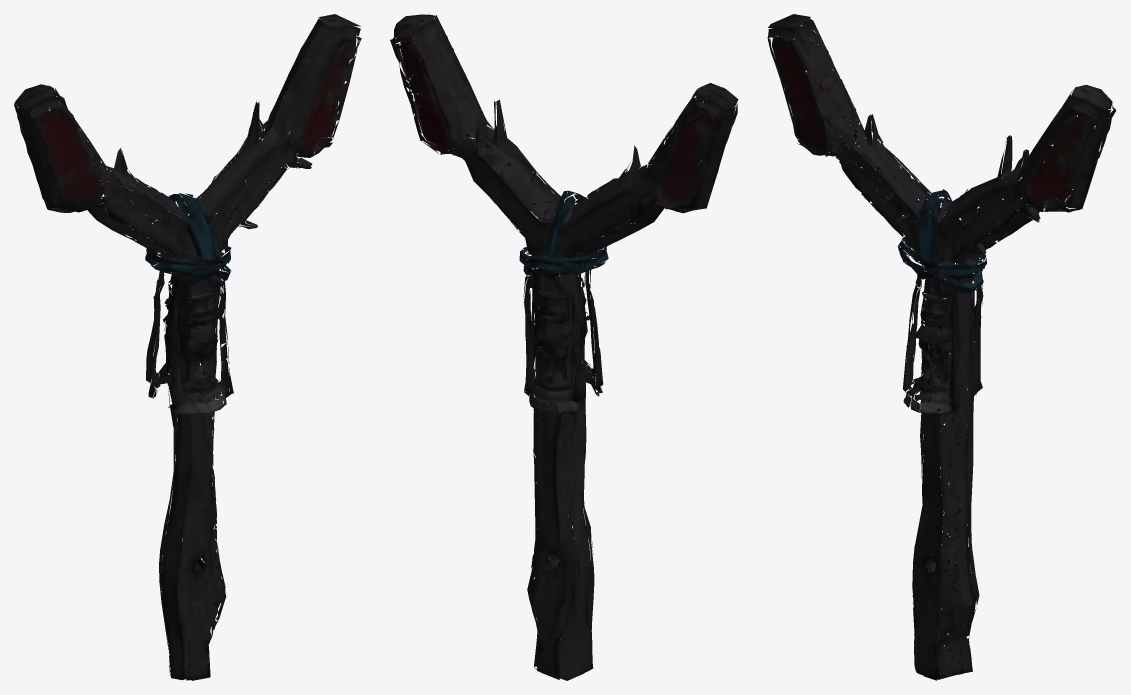
Rendered from prop-route-fork-marker-lod0.glb.
The picture shows the model from 3 angles, left to right: view 1: azimuth 30°, elevation 25°; view 2: azimuth 150°, elevation 25°; view 3: azimuth 330°, elevation 25°; orthographic projection.
Visible parts, largest first — view 1: xenovoya_runtime_asset; view 2: xenovoya_runtime_asset; view 3: xenovoya_runtime_asset.
Part boxes in pixels (x1,y1,x2,y2): xenovoya_runtime_asset: (14,14,361,680); xenovoya_runtime_asset: (390,14,738,680); xenovoya_runtime_asset: (767,14,1115,680).
Size of the model in its own units: 0.3283 by 0.569 by 0.0779.
1 material, 1 textured.
